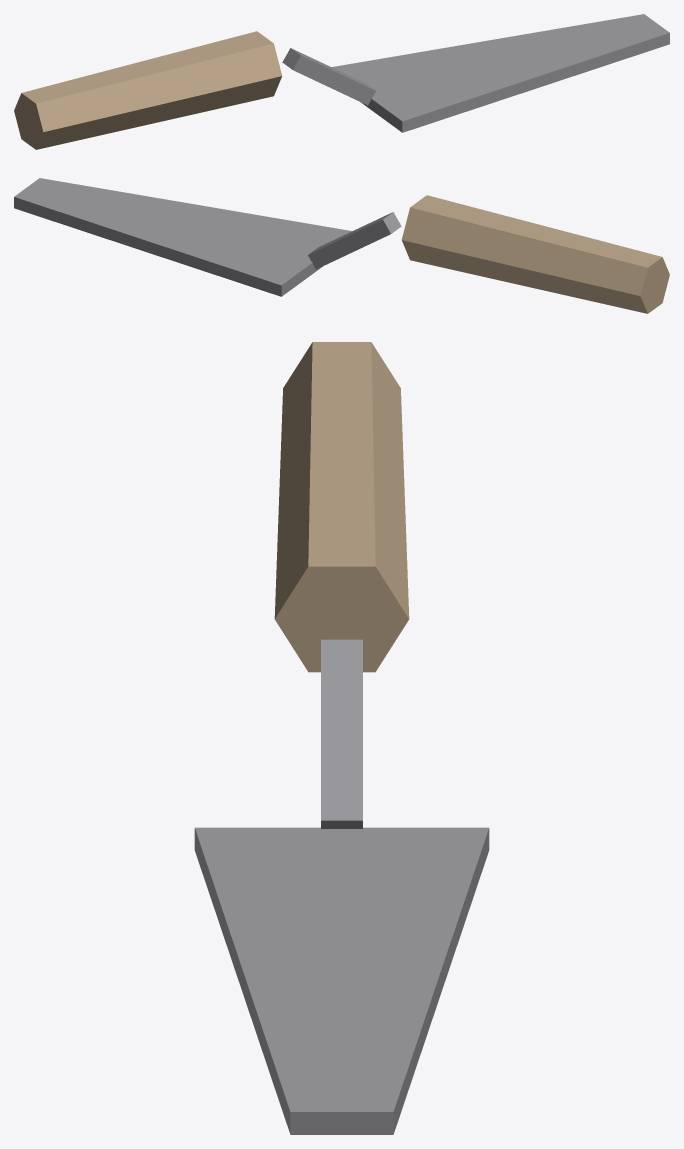
The model's file is prop-loam-trowel-blank.fbx.
3 views of the same model, one above another, from view 1: azimuth 30°, elevation 25°; view 2: azimuth 150°, elevation 25°; view 3: azimuth 270°, elevation 25° (orthographic). The views are drawn at different scales.
Parts seen in each view (by area): view 1: prop-loam-trowel-blank; view 2: prop-loam-trowel-blank; view 3: prop-loam-trowel-blank.
Boxes of the visible parts, x1,y1,x2,y2 form: prop-loam-trowel-blank: [14, 14, 669, 149]; prop-loam-trowel-blank: [14, 178, 669, 313]; prop-loam-trowel-blank: [194, 342, 489, 1134].
Bounding box in the file's own units: 34.5 × 4.89 × 7.
